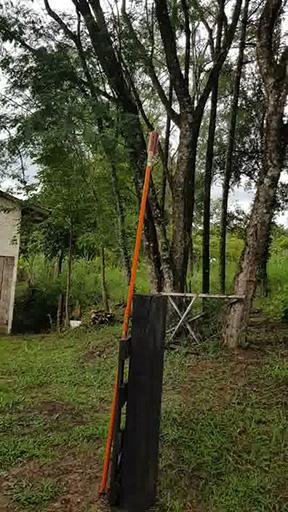Detector_Tensao_Contato: (145, 125, 161, 155)
Vara_Manobra: (101, 154, 154, 493)
